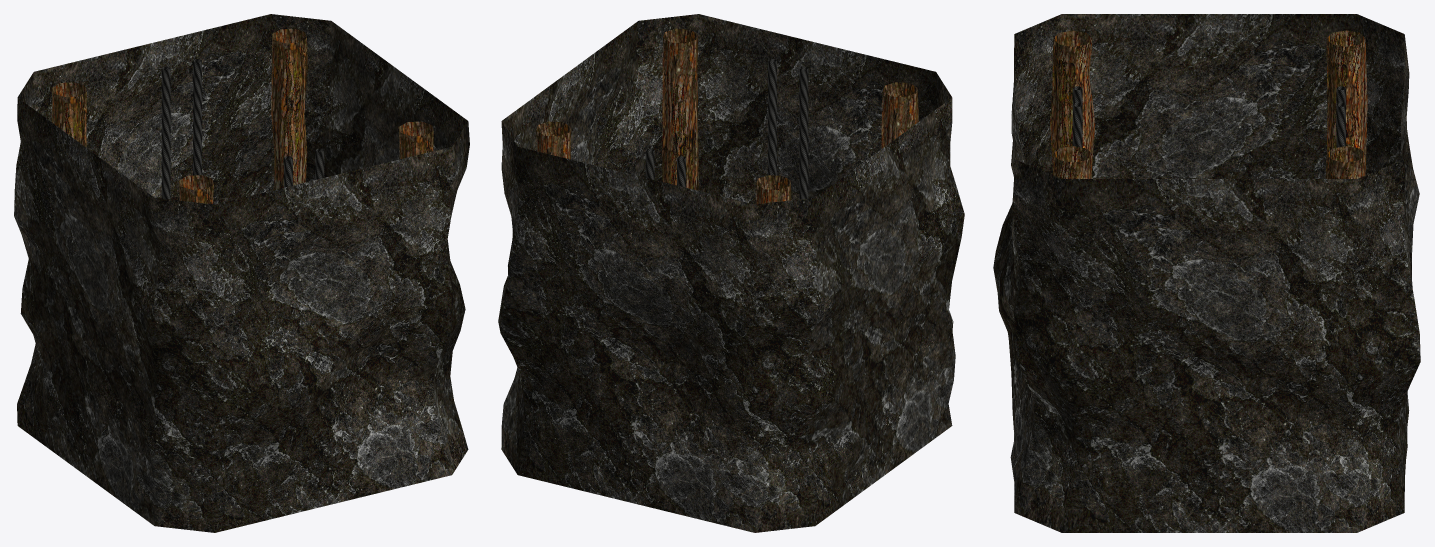
The model's file is Cave_082.fbx.
3 views of the same model, side by side, from view 1: azimuth 30°, elevation 25°; view 2: azimuth 150°, elevation 25°; view 3: azimuth 270°, elevation 25° (orthographic). The views are drawn at different scales.
Visible parts, largest first — view 1: Cave.082; view 2: Cave.082; view 3: Cave.082.
Boxes of the visible parts, left/top/right/bottom form: Cave.082: left=14, top=14, right=469, bottom=532; Cave.082: left=498, top=14, right=964, bottom=532; Cave.082: left=993, top=14, right=1420, bottom=532.
Bounding box in the file's own units: 313 × 300 × 328.
